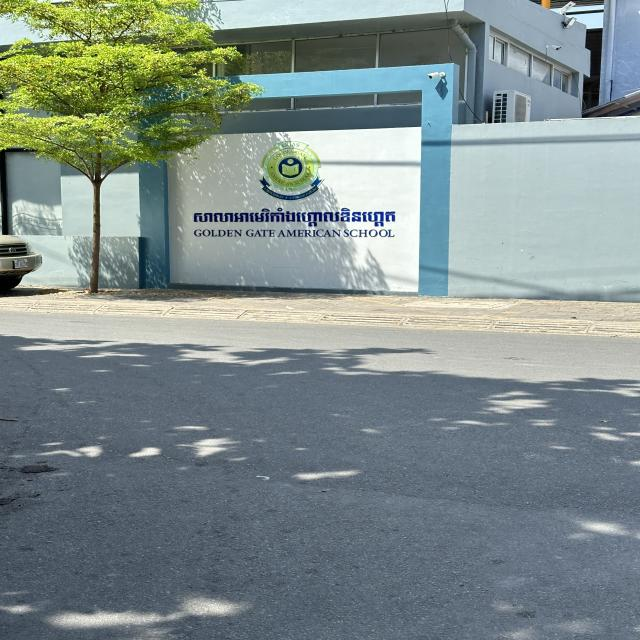Yolov11kh: (189, 207, 400, 227)
